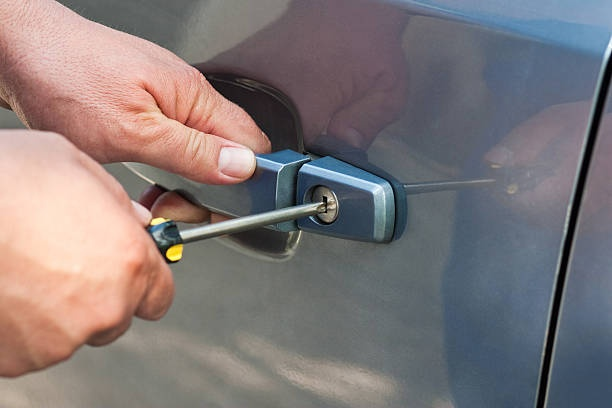screwdriver: (113, 199, 327, 265)
